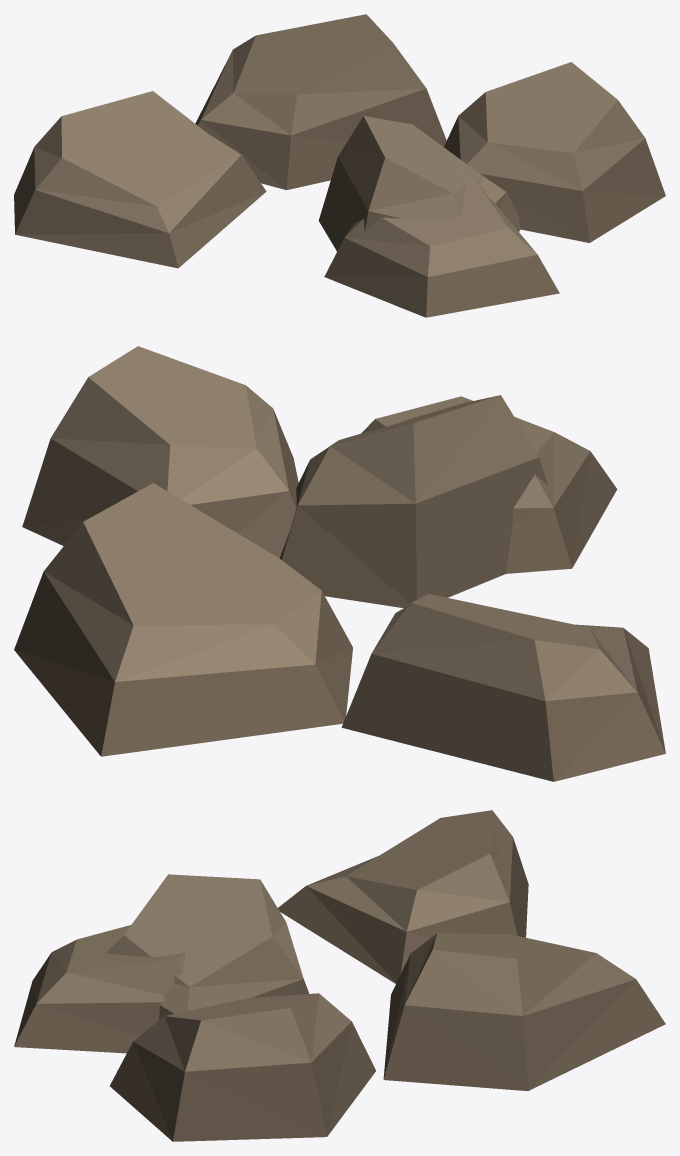
3 views of the same model, one above another, from view 1: azimuth 30°, elevation 25°; view 2: azimuth 150°, elevation 25°; view 3: azimuth 270°, elevation 25° (orthographic). The views are drawn at different scales.
Visible parts, largest first — view 1: desert-pebbles; view 2: desert-pebbles; view 3: desert-pebbles.
Part boxes in pixels (x1,y1,x2,y2): desert-pebbles: (14, 14, 665, 317); desert-pebbles: (14, 346, 665, 781); desert-pebbles: (14, 810, 665, 1141).
Bounding box in the file's own units: 0.6904 × 0.1431 × 0.682.
